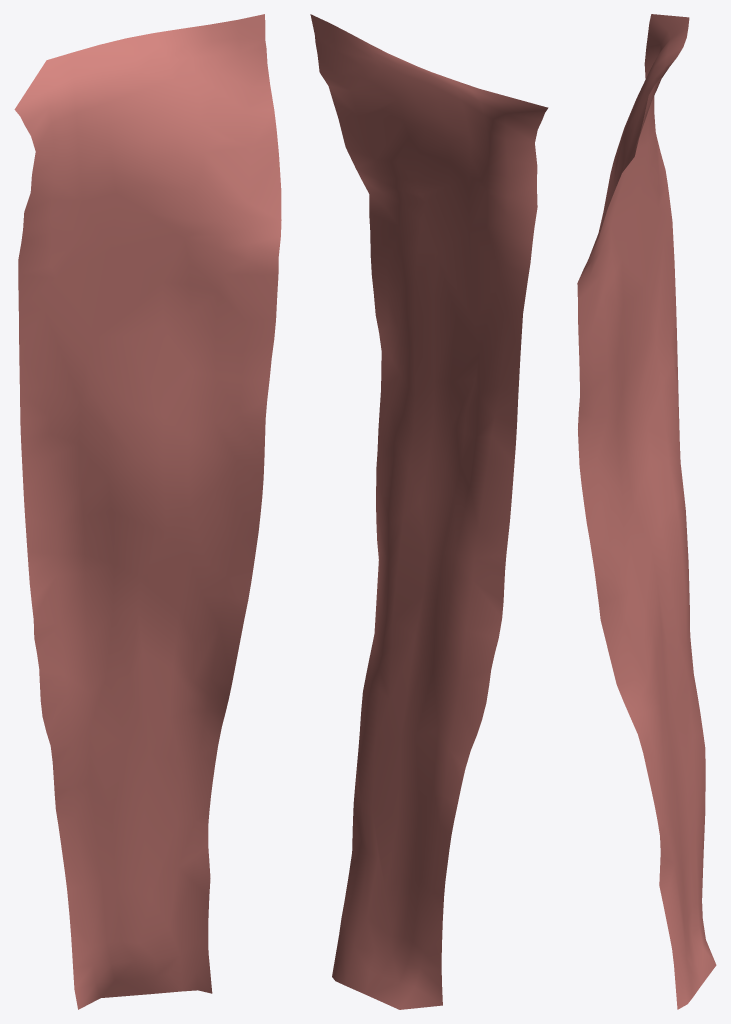
3 renders of one model, left to right at view 1: azimuth 30°, elevation 25°; view 2: azimuth 150°, elevation 25°; view 3: azimuth 270°, elevation 25°, orthographic. The views are drawn at different scales.
Parts seen in each view (by area): view 1: ZA_a11b1442469abd0f; view 2: ZA_a11b1442469abd0f; view 3: ZA_a11b1442469abd0f.
Boxes of the visible parts, <box> form: ZA_a11b1442469abd0f: <box>14,14,281,1009</box>; ZA_a11b1442469abd0f: <box>310,14,548,1009</box>; ZA_a11b1442469abd0f: <box>577,14,716,1009</box>.
Size of the model in its own units: 0.0776 by 0.292 by 0.0395.
